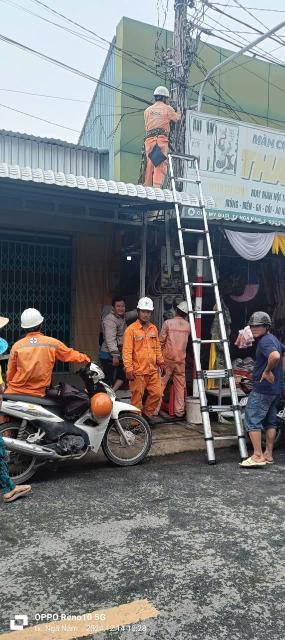gloves: (160, 356, 170, 376), (125, 370, 141, 381)
harness: (137, 125, 174, 139)
helmet: (16, 300, 50, 334), (149, 86, 175, 103), (134, 294, 156, 313), (174, 299, 195, 318)
